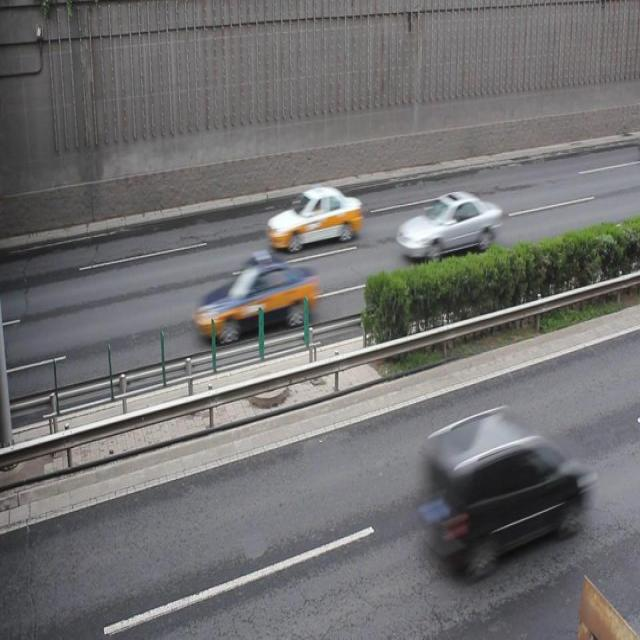car: (422, 404, 580, 576), (194, 256, 316, 340), (396, 190, 500, 260), (267, 183, 362, 251)
